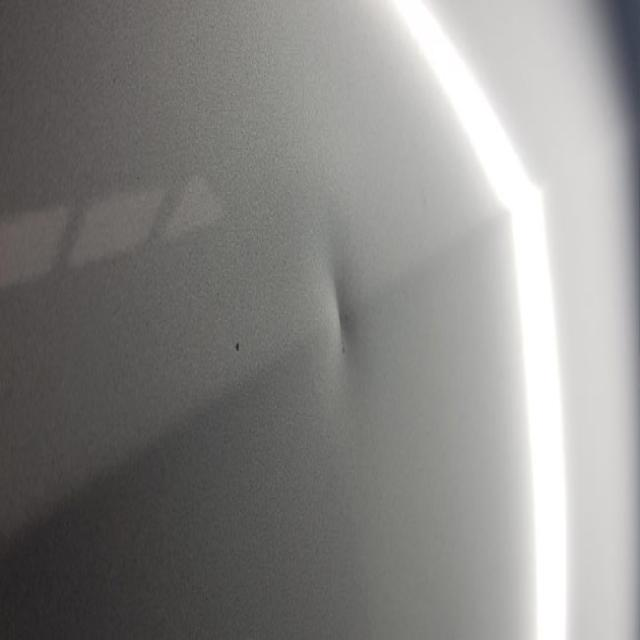Dent: (326, 249, 354, 376)
